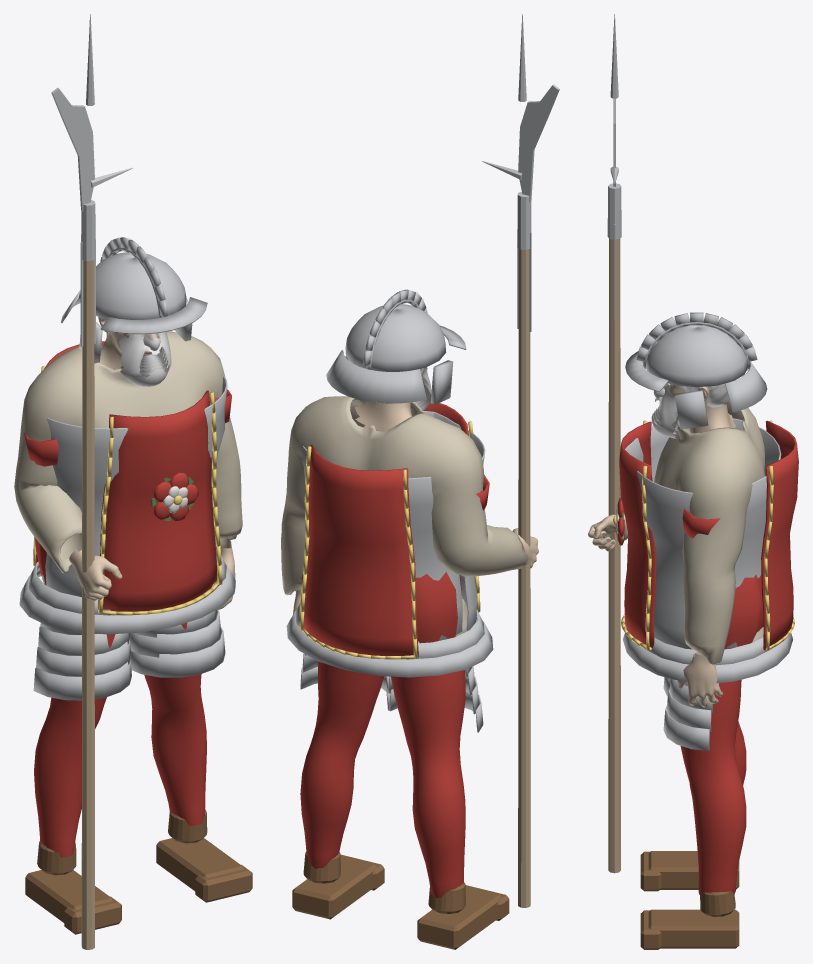
Rendered from SM_English_Tier6.fbx.
The picture shows the model from 3 angles, left to right: view 1: azimuth 30°, elevation 25°; view 2: azimuth 150°, elevation 25°; view 3: azimuth 270°, elevation 25°; orthographic projection. The views are drawn at different scales.
Parts seen in each view (by area): view 1: Tudor Livery Tabard, Shirt & Doublet, Fauld & Tassets.001, Hose.002, Bear's-Paw Shoes, Bill Shaft, Burgonet, Ridged Breastplate, Bill Head (Hook, Spike, Beak), Tier 6 Soldier, Tabard Gold Trim, Beard.003 (+1 smaller); view 2: Hose.002, Tudor Livery Tabard, Shirt & Doublet, Burgonet, Bill Shaft, Bear's-Paw Shoes, Fauld & Tassets.001, Ridged Breastplate, Bill Head (Hook, Spike, Beak), Paned Breeches, Tabard Gold Trim, Tier 6 Soldier; view 3: Shirt & Doublet, Tudor Livery Tabard, Burgonet, Hose.002, Ridged Breastplate, Bill Shaft, Bear's-Paw Shoes, Fauld & Tassets.001, Tier 6 Soldier, Paned Breeches, Tabard Gold Trim, Bill Head (Hook, Spike, Beak) (+2 smaller).
Part boxes in pixels (x1,y1,x2,y2): Tudor Livery Tabard: (23, 341, 231, 611); Shirt & Doublet: (14, 331, 242, 584); Fauld & Tassets.001: (19, 556, 235, 700); Hose.002: (34, 622, 206, 857); Bear's-Paw Shoes: (25, 809, 252, 934); Bill Shaft: (81, 260, 94, 949); Burgonet: (61, 237, 207, 363); Ridged Breastplate: (45, 375, 227, 596); Bill Head (Hook, Spike, Beak): (51, 14, 132, 346); Tier 6 Soldier: (69, 317, 235, 610); Tabard Gold Trim: (33, 366, 222, 615); Beard.003: (119, 332, 171, 386); Hose.002: (300, 661, 465, 898); Tudor Livery Tabard: (303, 401, 489, 656); Shirt & Doublet: (281, 396, 528, 643); Burgonet: (326, 289, 466, 404); Bill Shaft: (518, 249, 530, 907); Bear's-Paw Shoes: (292, 852, 509, 949); Fauld & Tassets.001: (286, 602, 493, 732); Ridged Breastplate: (302, 411, 485, 640); Bill Head (Hook, Spike, Beak): (482, 14, 559, 331); Paned Breeches: (301, 572, 461, 643); Tabard Gold Trim: (299, 421, 480, 659); Tier 6 Soldier: (293, 368, 538, 614); Shirt & Doublet: (654, 401, 764, 664); Tudor Livery Tabard: (619, 420, 798, 650); Burgonet: (625, 312, 767, 429); Hose.002: (680, 679, 746, 895); Ridged Breastplate: (625, 418, 781, 649); Bill Shaft: (608, 239, 620, 873); Bear's-Paw Shoes: (640, 851, 739, 949); Fauld & Tassets.001: (623, 628, 792, 750); Tier 6 Soldier: (588, 383, 735, 707); Paned Breeches: (724, 574, 763, 649); Tabard Gold Trim: (621, 420, 794, 651); Bill Head (Hook, Spike, Beak): (607, 14, 621, 320).
Size of the model in its own units: 0.7139 by 0.5973 by 2.68.
